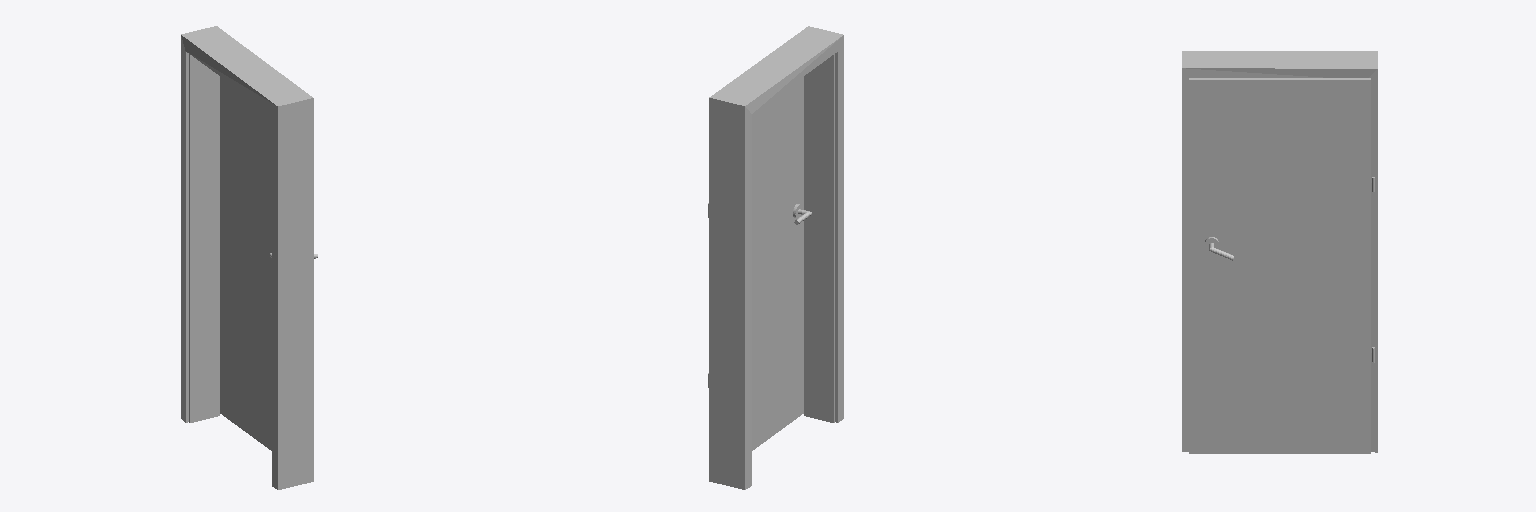
File: door65.obj
The picture shows the model from 3 angles: view 1: azimuth 30°, elevation 25°; view 2: azimuth 150°, elevation 25°; view 3: azimuth 270°, elevation 25°; orthographic projection.
Parts seen in each view (by area): view 1: Cylinder.005, Cylinder.001; view 2: Cylinder.005, Cylinder.001; view 3: Cylinder.001, Cylinder.005.
Part boxes in pixels (x1,y1,x2,y2): Cylinder.005: (181,26,313,489); Cylinder.001: (220,77,271,450); Cylinder.005: (708,26,843,489); Cylinder.001: (708,77,803,450); Cylinder.001: (1189,78,1374,453); Cylinder.005: (1182,51,1377,452).
Size of the model in its own units: 0.3039 by 2.05 by 0.95.